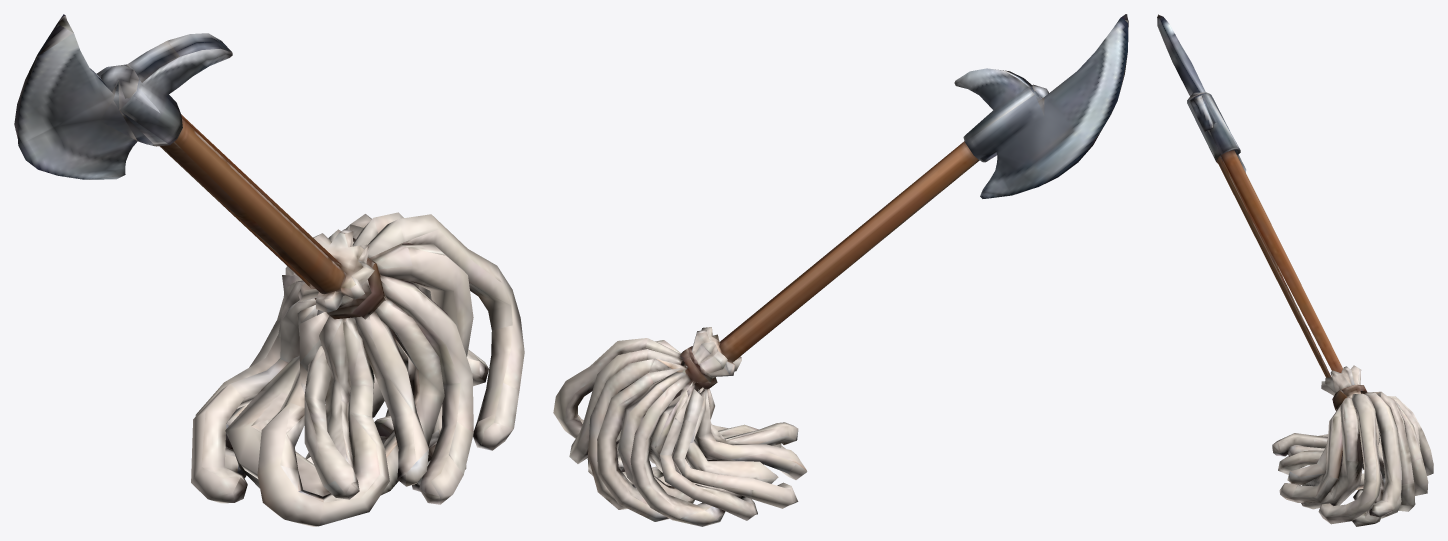
File: item-mopHalberd.glb
3 views of the same model, side by side, from view 1: azimuth 30°, elevation 25°; view 2: azimuth 150°, elevation 25°; view 3: azimuth 270°, elevation 25° (orthographic). The views are drawn at different scales.
Bounding box in the file's own units: 0.9585 × 0.9536 × 0.6548.
Materials: 1 (1 with a texture image).
